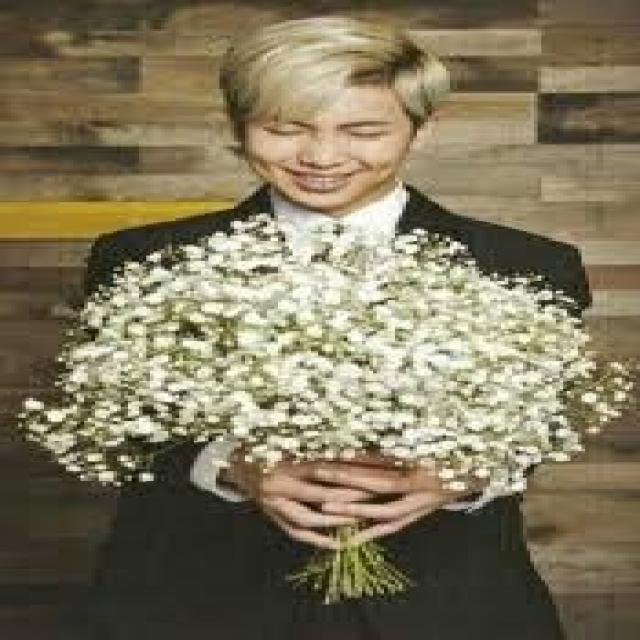organic waste: (55, 222, 611, 509)
